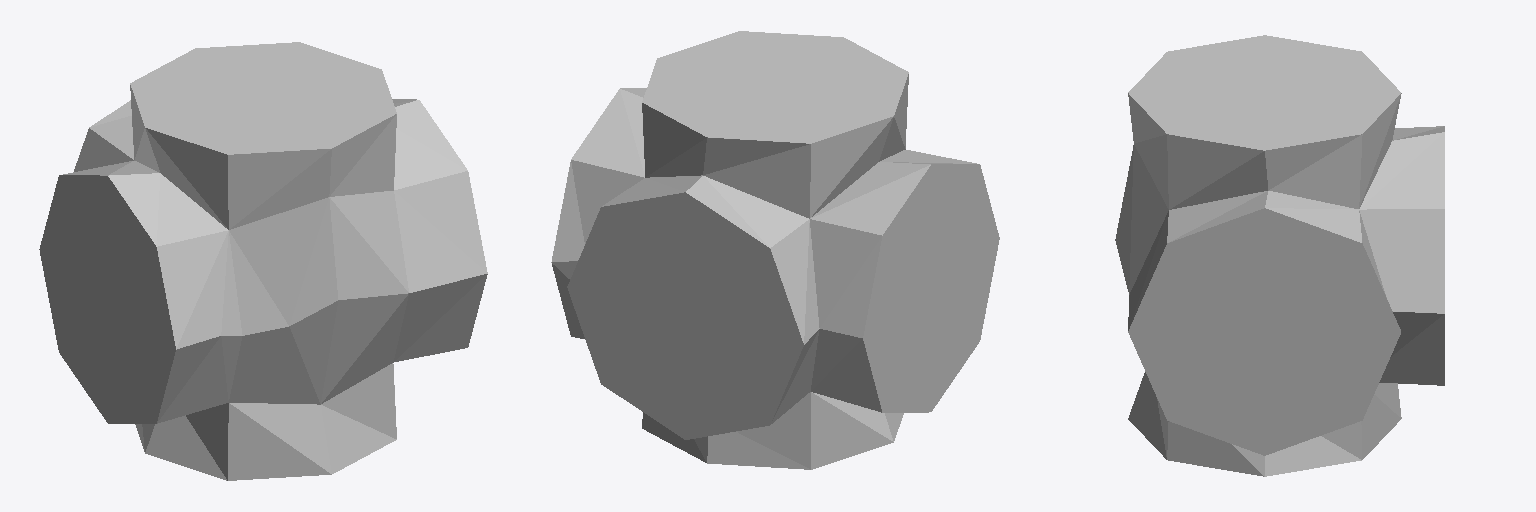
Rendered from 4 branches.obj.
3 renders of one model, left to right at view 1: azimuth 30°, elevation 25°; view 2: azimuth 150°, elevation 25°; view 3: azimuth 270°, elevation 25°, orthographic.
Parts seen in each view (by area): view 1: 4_branches_Cube.022; view 2: 4_branches_Cube.022; view 3: 4_branches_Cube.022.
Boxes of the visible parts, box(x1,y1,x2,y2) form: 4_branches_Cube.022: box(39, 42, 487, 480); 4_branches_Cube.022: box(551, 31, 999, 469); 4_branches_Cube.022: box(1115, 35, 1444, 476).
Size of the model in its own units: 2 by 2 by 1.83.